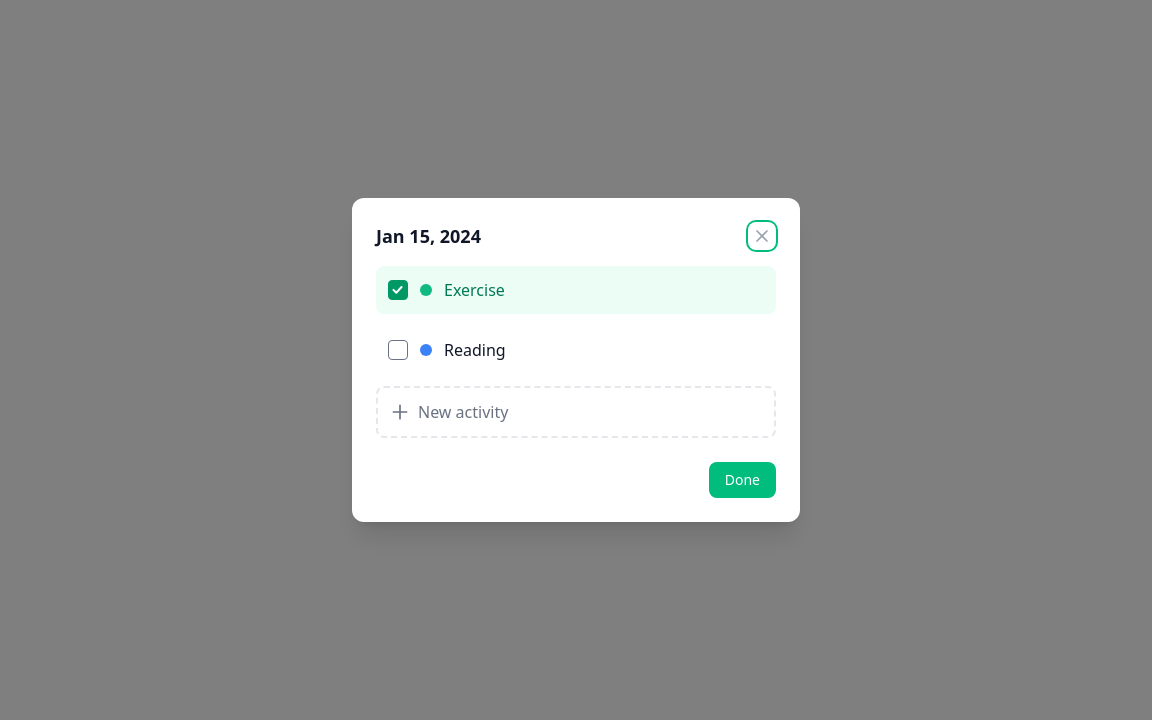
Test: QuickLog › Toggle Activity › should toggle off a completed activity
Click the checkbox with test id "quicklog-activity-checkbox" showing "Exercise". click: (398, 290)
box: [388,280,408,300]
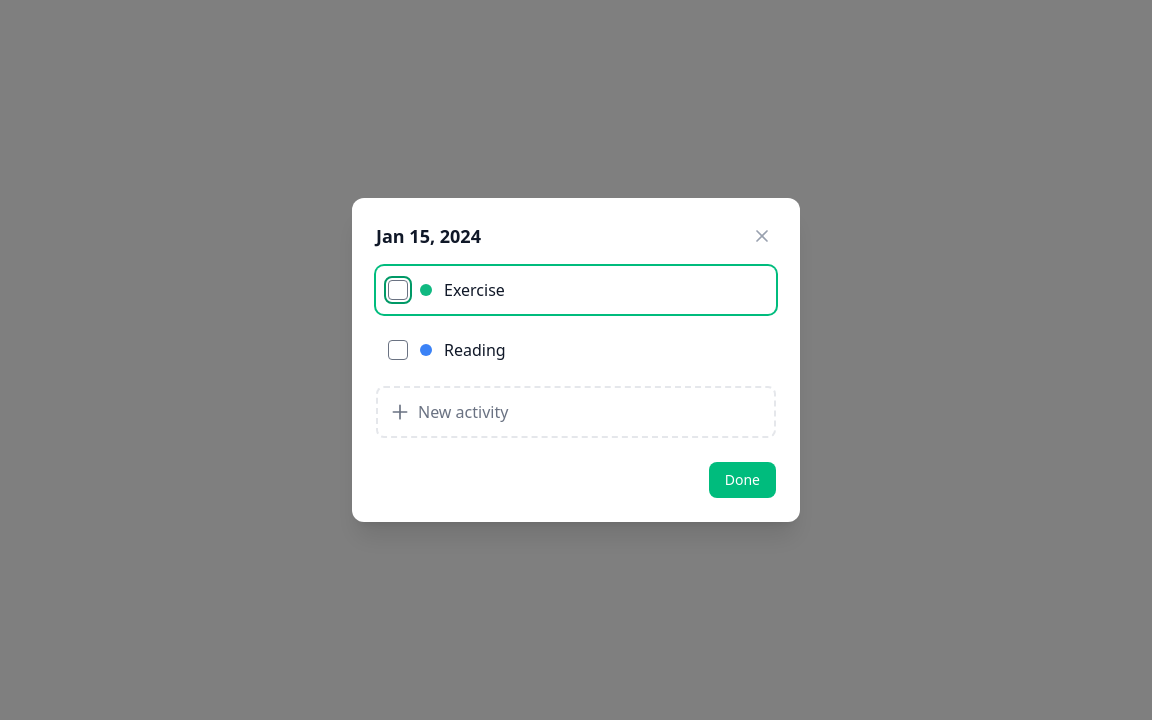
Now the checkbox with test id "quicklog-activity-checkbox" showing "Exercise" is not checked, box [388,280,408,300]
